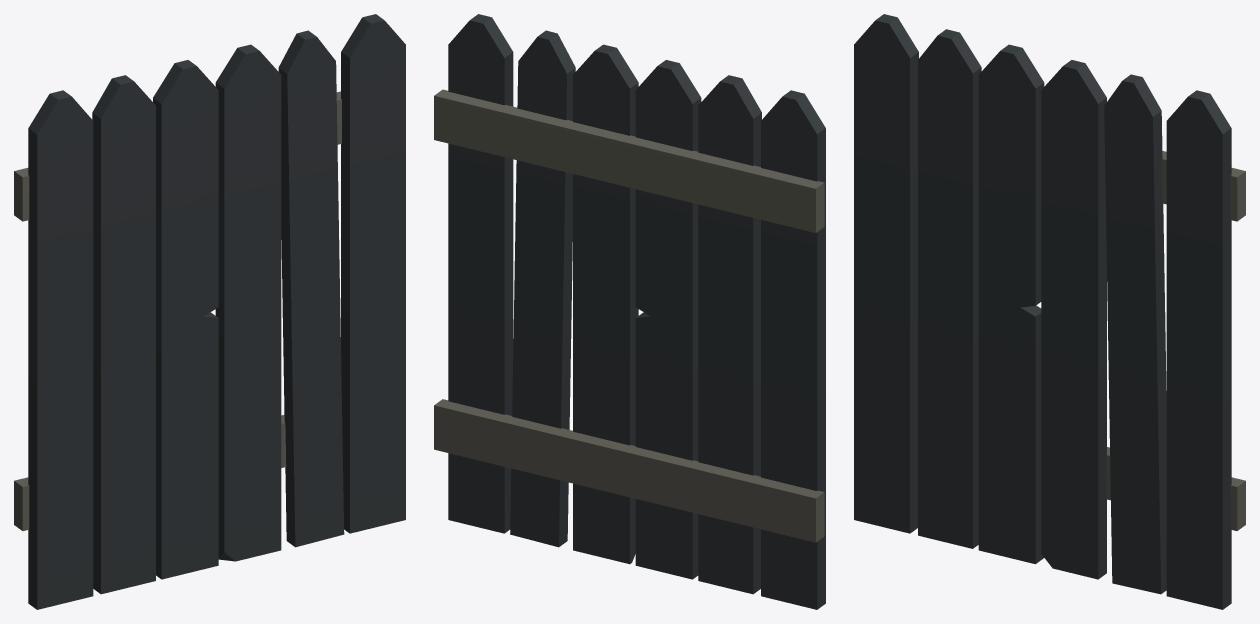
File: Fence_06.fbx
3 renders of one model, left to right at view 1: azimuth 30°, elevation 25°; view 2: azimuth 150°, elevation 25°; view 3: azimuth 330°, elevation 25°, orthographic.
Parts seen in each view (by area): view 1: Fence_06; view 2: Fence_06; view 3: Fence_06.
Boxes of the visible parts, <box> form: Fence_06: <box>14,14,405,609</box>; Fence_06: <box>434,14,825,609</box>; Fence_06: <box>854,14,1245,609</box>.
Size of the model in its own units: 1.02 by 1.29 by 0.0766.
